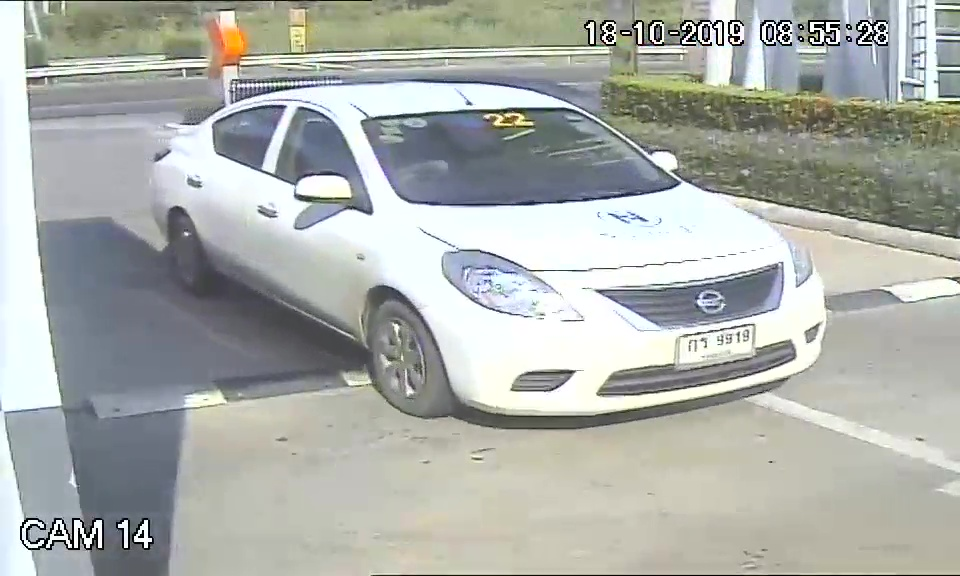sedan: (146, 77, 835, 415)
